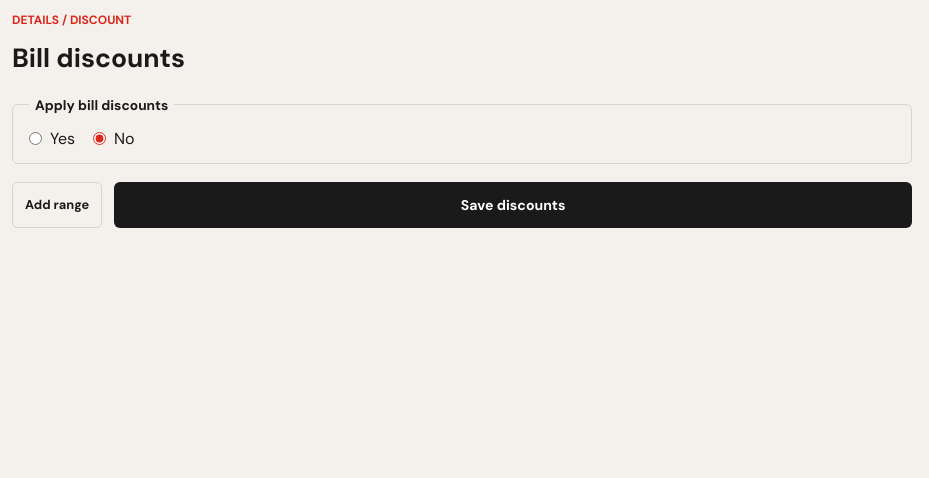
Scenario: DiscountManager › saves open-ended amount ranges for Admin
This screenshot has width=929, height=478.
Click the radio button labelled "Yes".
click(36, 138)  # box top-left (29, 132), bottom-right (42, 145)
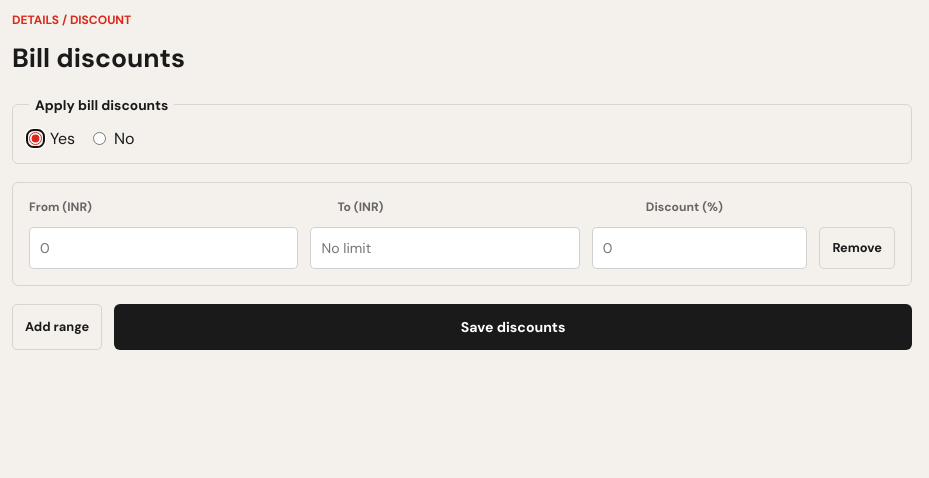
Type "199.99" into the number field named "To amount for range 1".
click(445, 248); type("199.99")  # box top-left (310, 227), bottom-right (580, 269)
Type "5" into the number field named "Discount applied for range 1".
click(700, 248); type("5")  # box top-left (592, 227), bottom-right (807, 269)
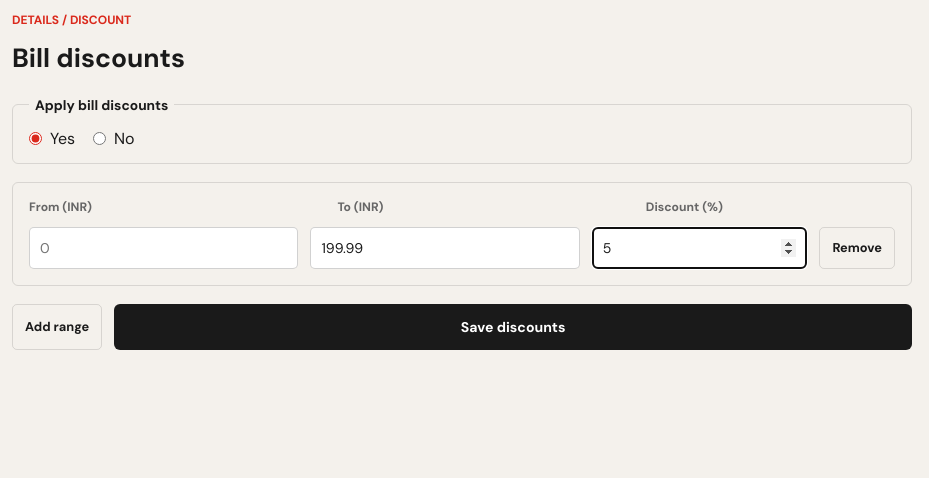
Click the button "Add range".
click(57, 327)  # box top-left (12, 304), bottom-right (102, 350)
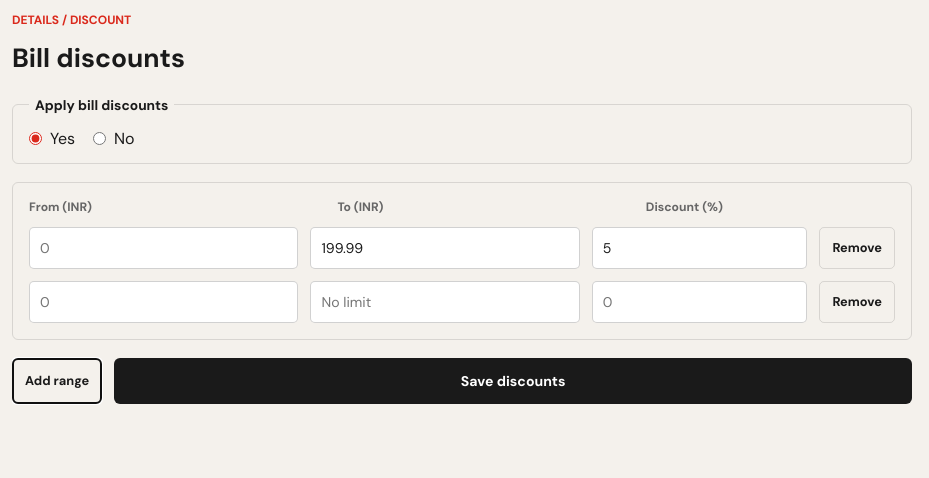
Type "200" into the number field named "From amount for range 2".
click(164, 302); type("200")  # box top-left (29, 281), bottom-right (298, 323)
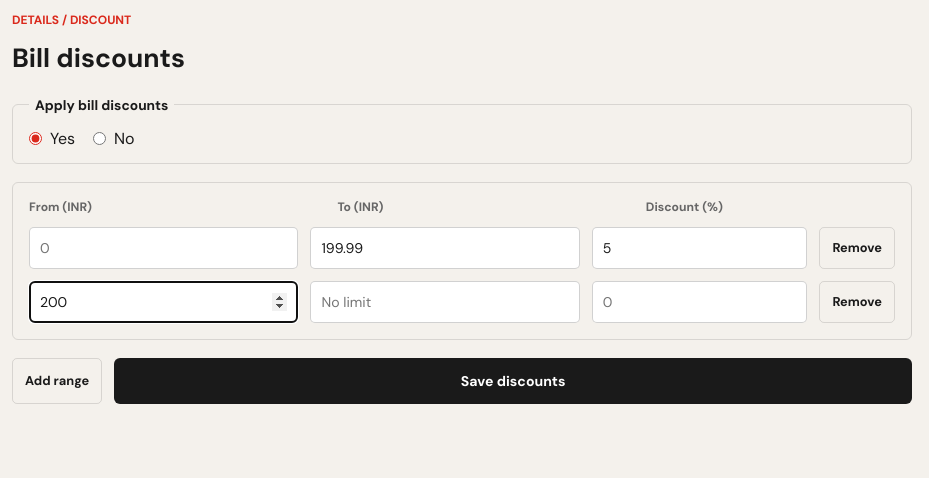
Type "10" into the number field named "Discount applied for range 2".
click(700, 302); type("10")  # box top-left (592, 281), bottom-right (807, 323)
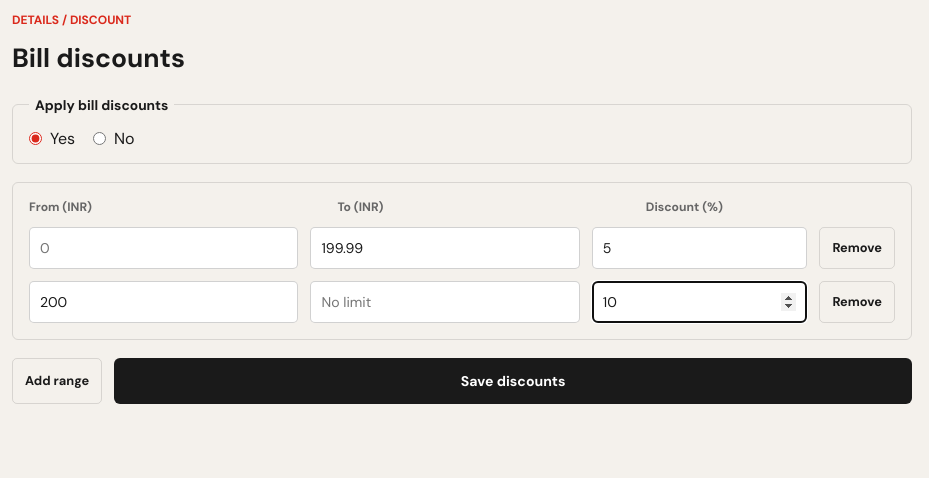
Click the button "Save discounts".
click(513, 381)  # box top-left (114, 358), bottom-right (912, 404)
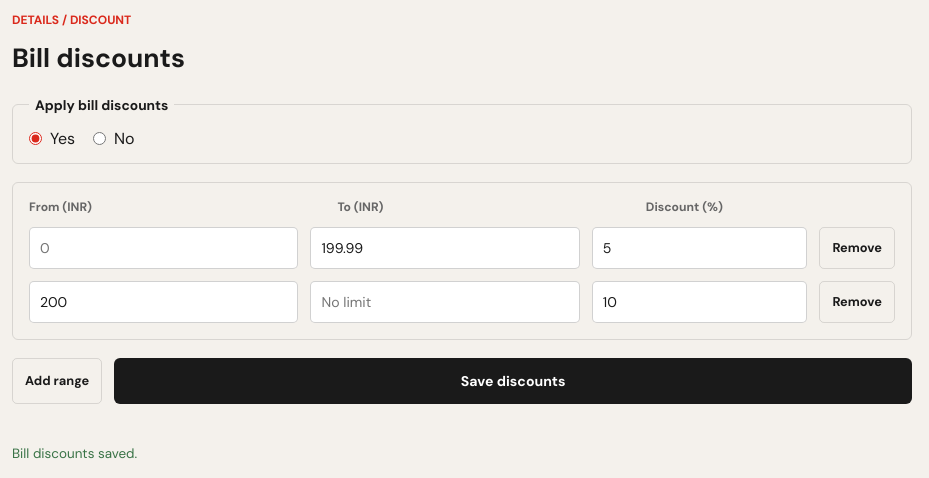
Check: the text "Bill discounts saved." is shown, box top-left (12, 445), bottom-right (137, 462)
